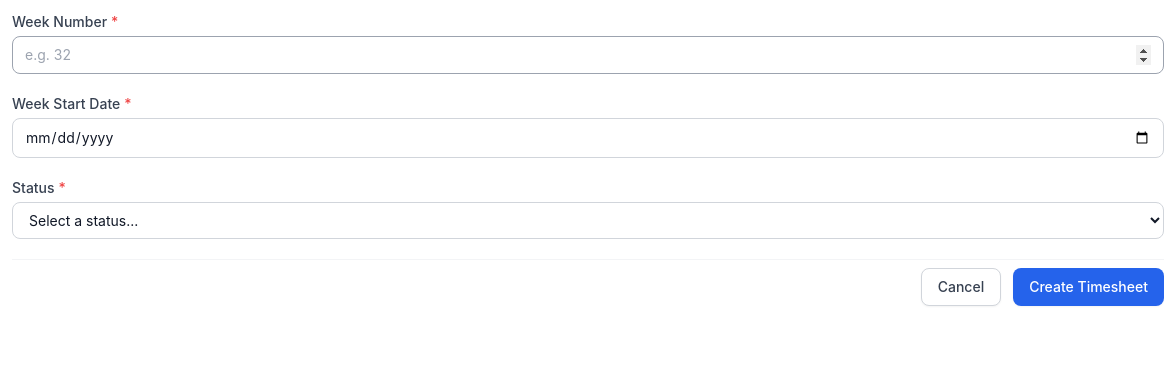
Scenario: TimesheetForm › shows validation errors on submit with empty fields
The width and height of the screenshot is (1176, 383).
Click the button "Create Timesheet": (1089,287) [1013, 268, 1164, 306]
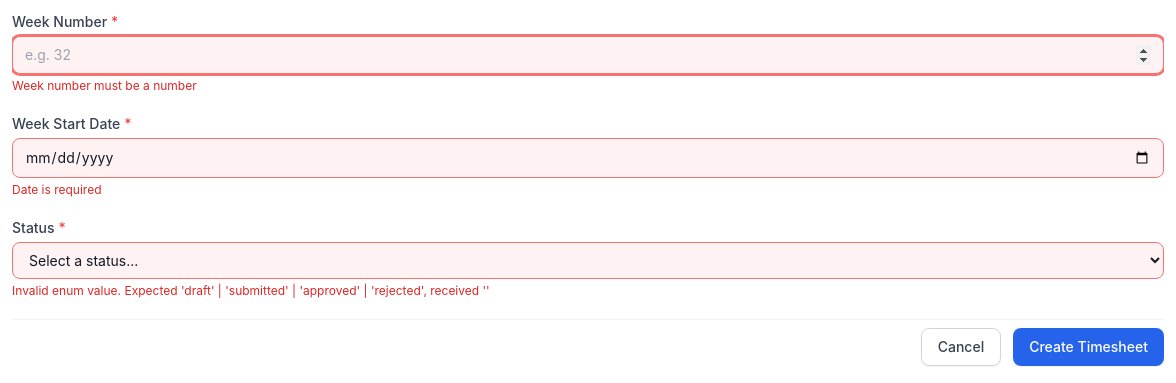
expect the text "Week number must be a number" is shown: met, box [12, 78, 197, 93]
